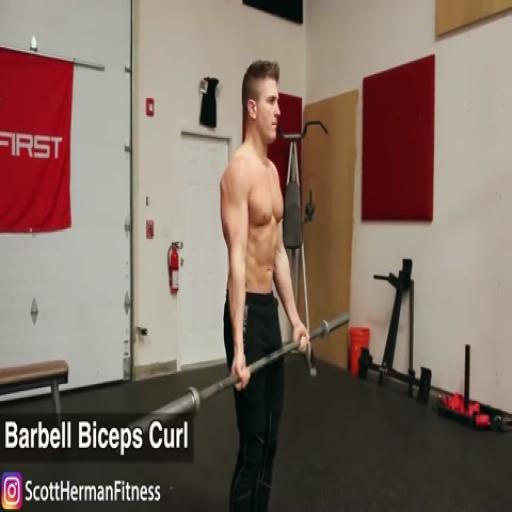exercise: (216, 57, 312, 510)
